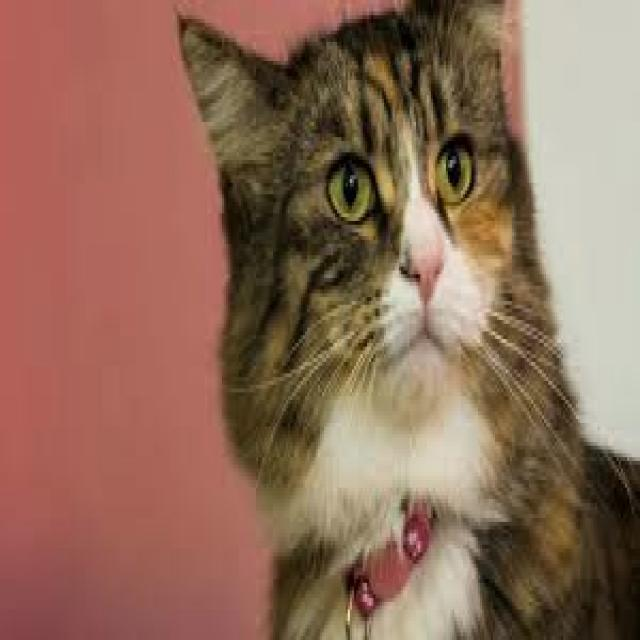cat: (179, 0, 638, 636)
